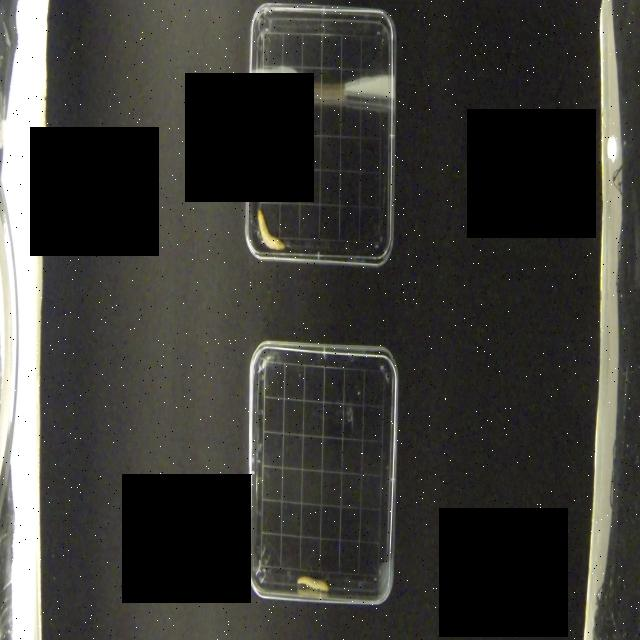larva: (256, 208, 286, 251), (296, 566, 334, 597)
